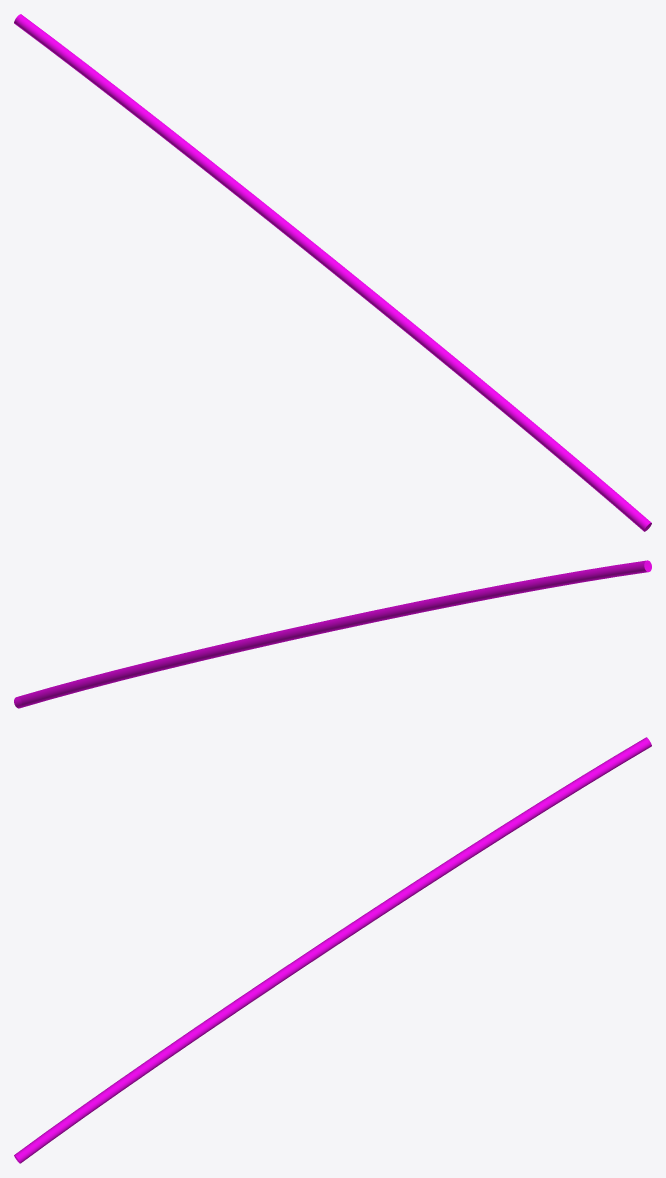
The model's file is Event_421556567_electron_0.fbx.
3 renders of one model, top to bottom at view 1: azimuth 30°, elevation 25°; view 2: azimuth 210°, elevation 25°; view 3: azimuth 270°, elevation 25°, orthographic. The views are drawn at different scales.
Visible parts, largest first — view 1: Model; view 2: Model; view 3: Model.
Part boxes in pixels (left/top/right/bottom): Model: left=14, top=14, right=651, bottom=531; Model: left=14, top=560, right=651, bottom=708; Model: left=14, top=737, right=651, bottom=1163.
Size of the model in its own units: 1.14 by 1.24 by 2.38.
